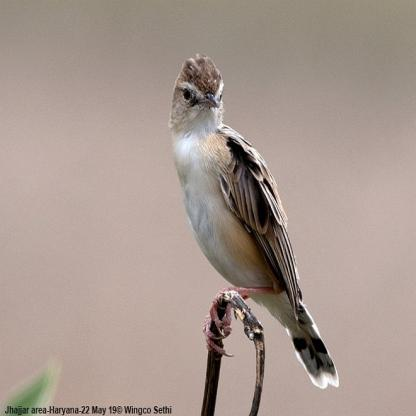Burung: (169, 52, 340, 390)
